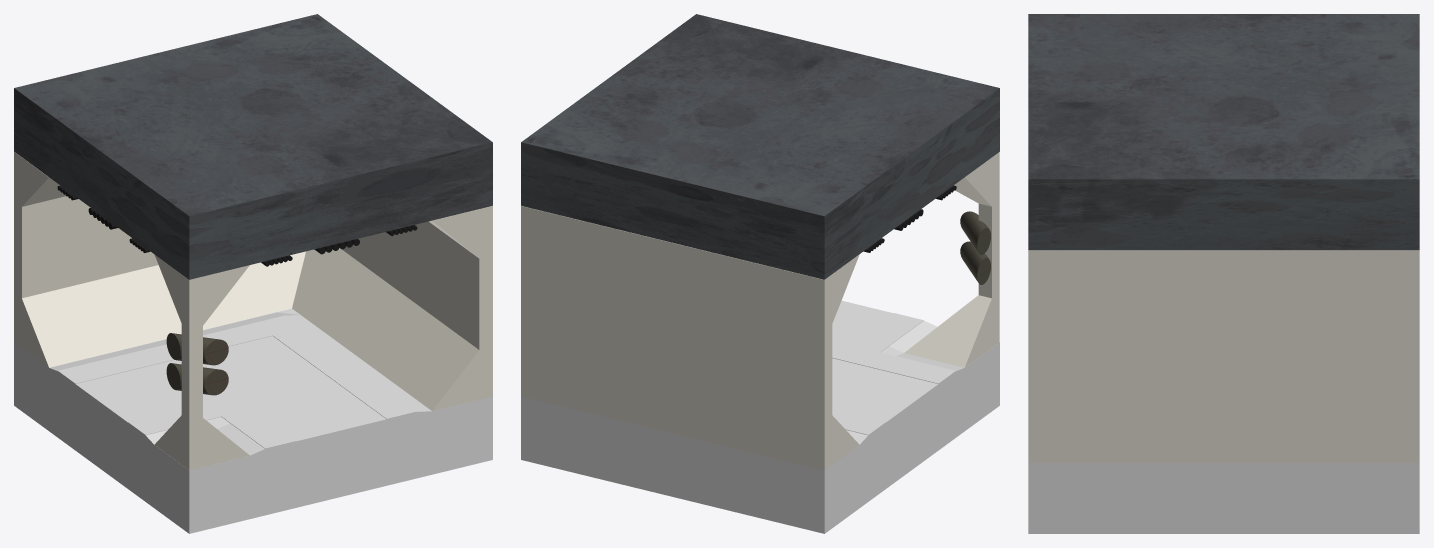
Rendered from Hallway Corner.fbx.
3 renders of one model, left to right at view 1: azimuth 30°, elevation 25°; view 2: azimuth 150°, elevation 25°; view 3: azimuth 270°, elevation 25°, orthographic. The views are drawn at different scales.
Visible parts, largest first — view 1: Cube.023, Cube.013, Cube.011, Cylinder.001, Cable_Small.019; view 2: Cube.023, Cube.013, Cube.011, Cylinder.001; view 3: Cube.023, Cube.013, Cube.011.
Boxes of the visible parts, x1,y1,x2,y2 form: Cube.023: [14, 14, 492, 279]; Cube.013: [14, 152, 492, 470]; Cube.011: [14, 308, 492, 533]; Cylinder.001: [166, 333, 228, 395]; Cable_Small.019: [57, 185, 417, 266]; Cube.023: [521, 14, 999, 279]; Cube.013: [521, 152, 999, 470]; Cube.011: [521, 300, 999, 533]; Cylinder.001: [960, 211, 990, 284]; Cube.023: [1028, 14, 1419, 250]; Cube.013: [1028, 250, 1419, 462]; Cube.011: [1028, 463, 1419, 533].
Size of the model in its own units: 1001 by 1000 by 1000.
